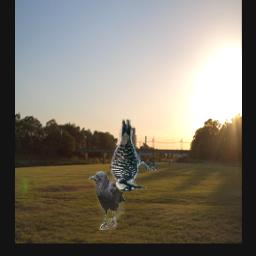Crow: (89, 172, 126, 231)
Woodpecker: (109, 120, 159, 192)
